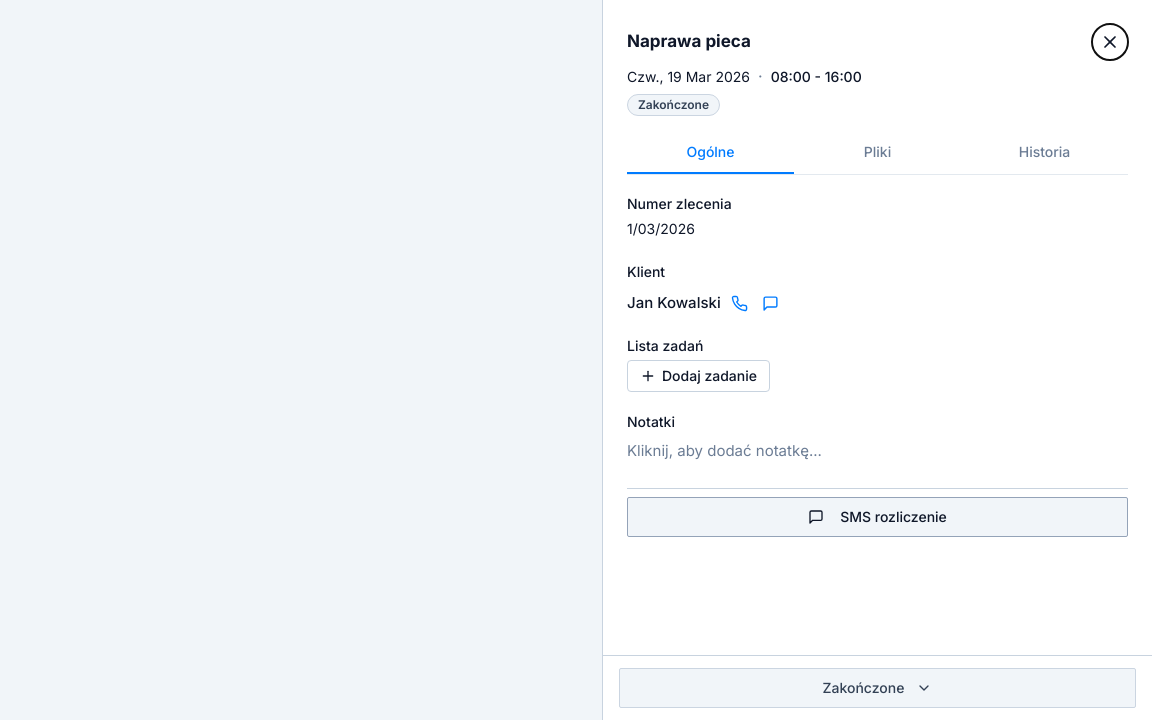
Test: CalendarItemDetailsDrawer — admin status controls › changes status via onStatusChange when dropdown option selected
Later steps or results of the test are not shown.
Note: Find the dropdown trigger button (not the badge)
What coordinates should you click on to do the following:
click the button "Zakończone"
I would click on:
 (878, 688)
Its box is [619, 668, 1136, 708].
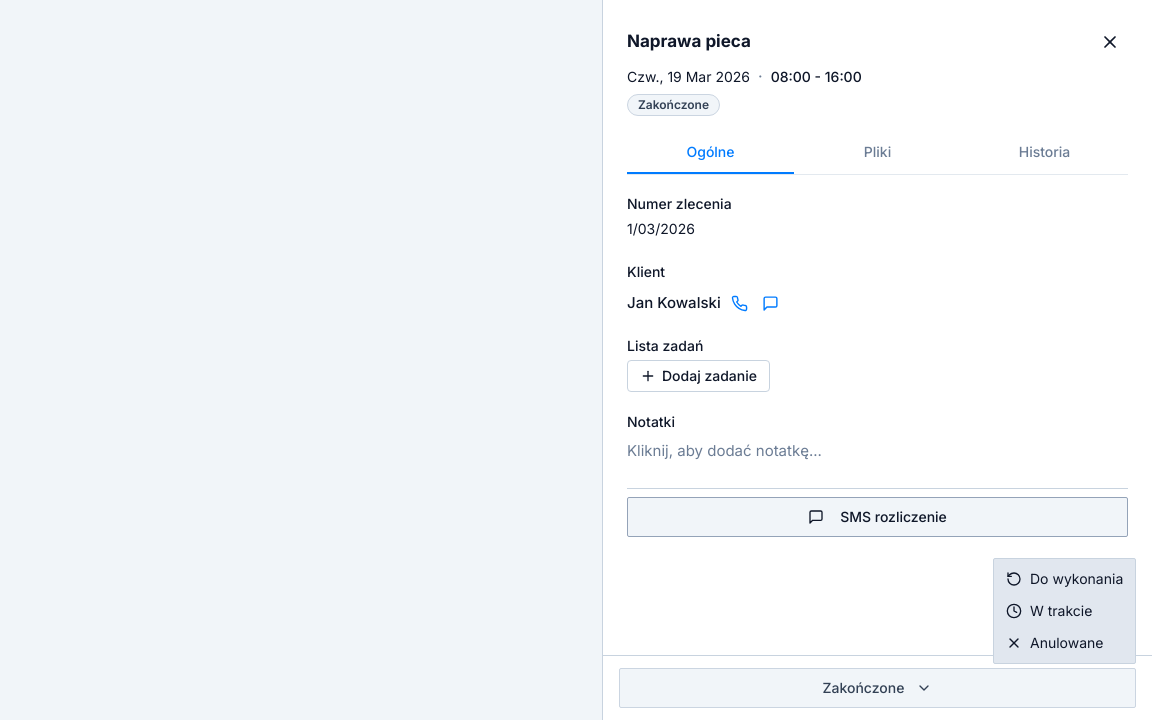
expect the menu item "Do wykonania" is shown: met, box [1006, 570, 1123, 587]
